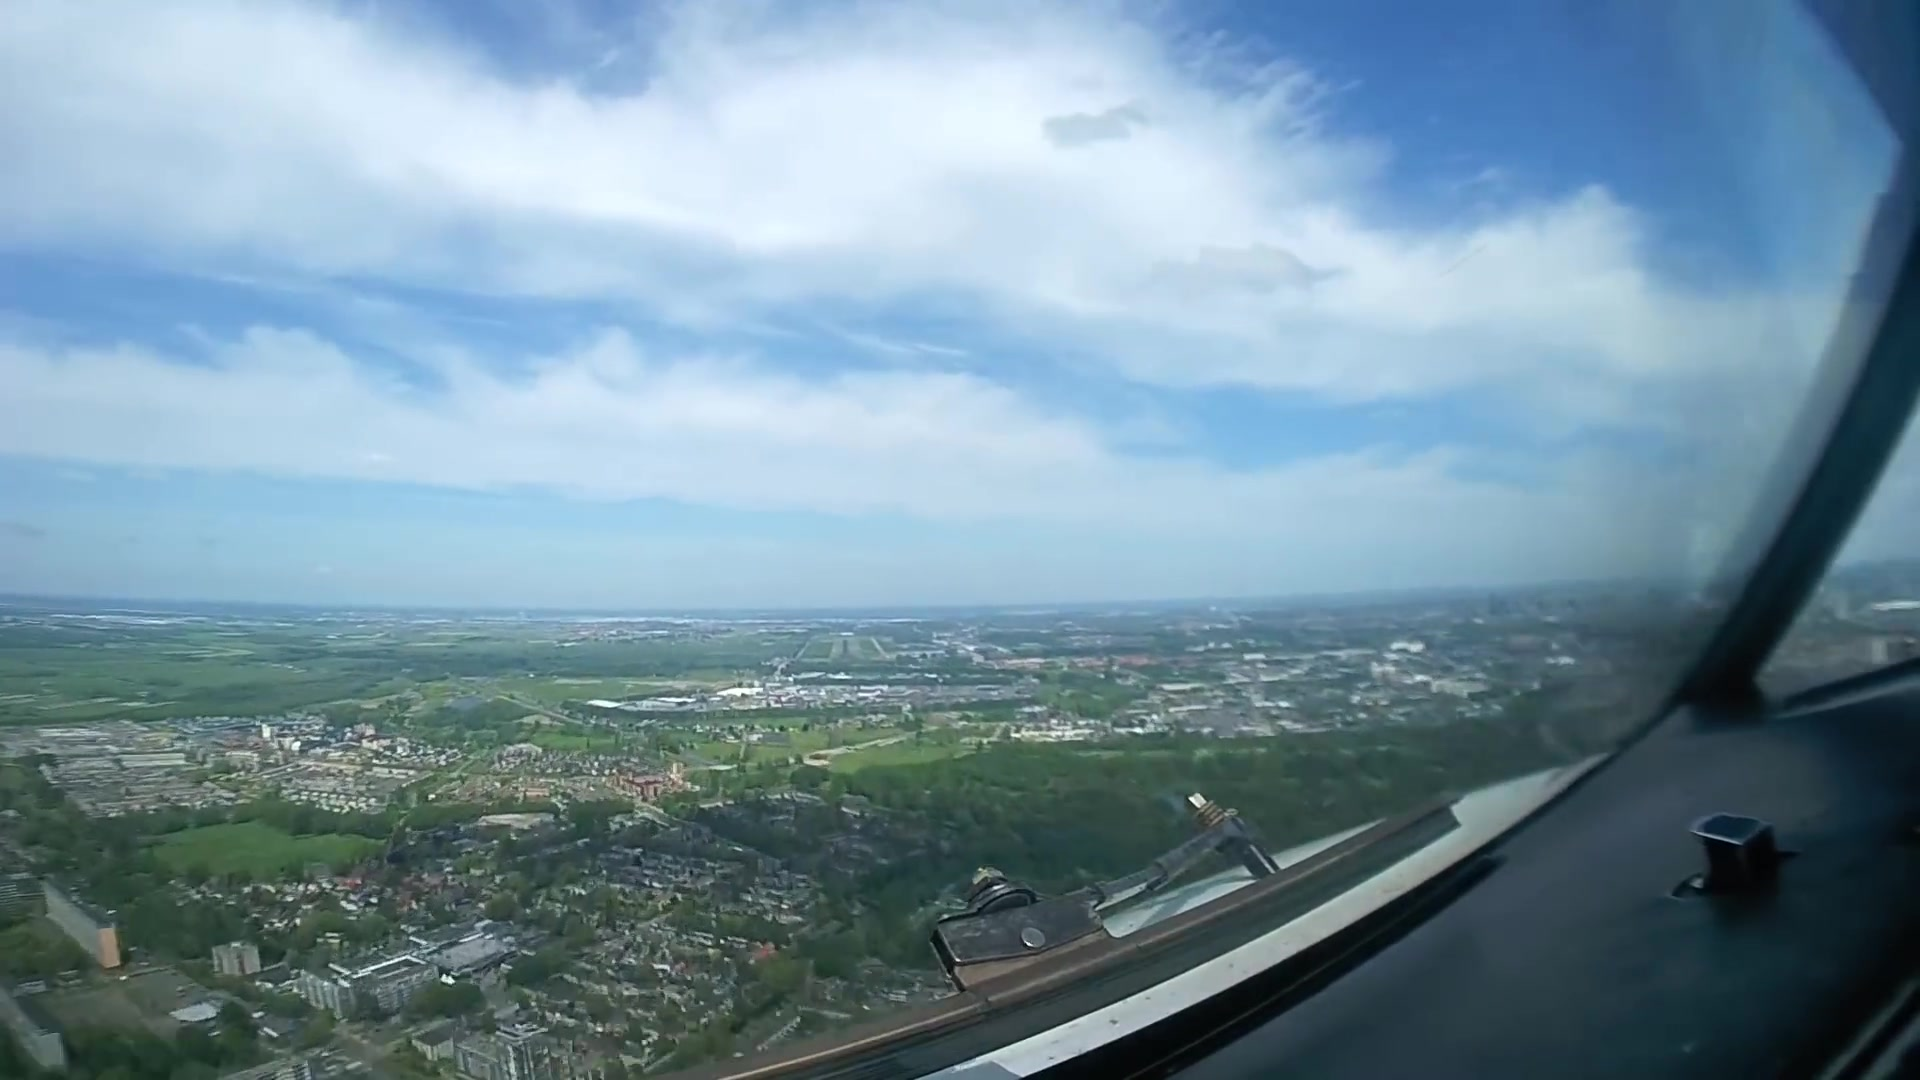runway: (837, 633, 856, 667)
